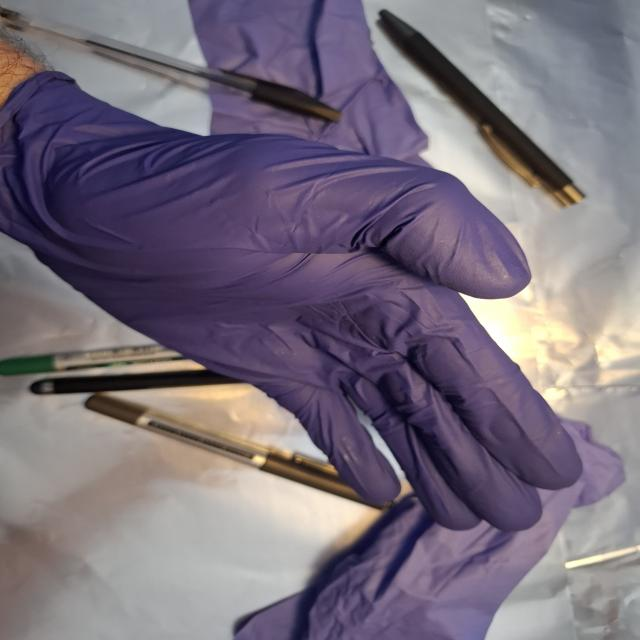glove_on: (0, 68, 590, 538)
